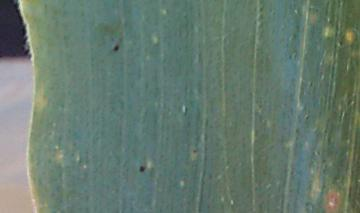tarspot: (109, 35, 125, 59), (186, 142, 201, 162), (136, 157, 150, 178)
